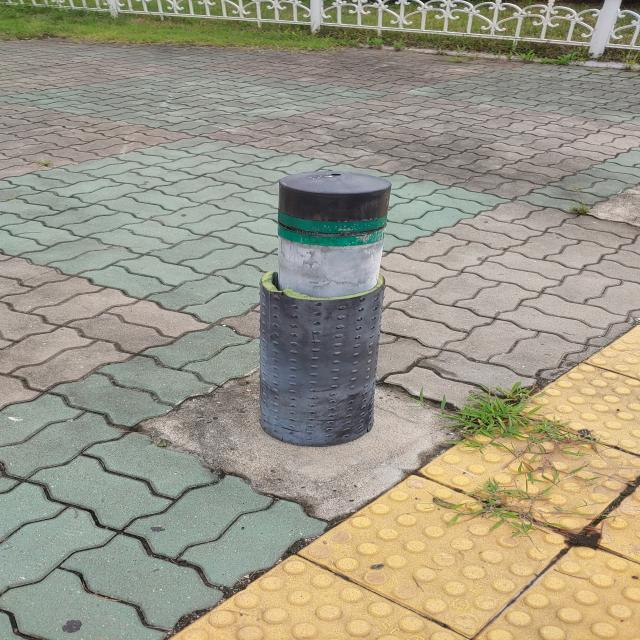pole: (259, 170, 391, 447)
